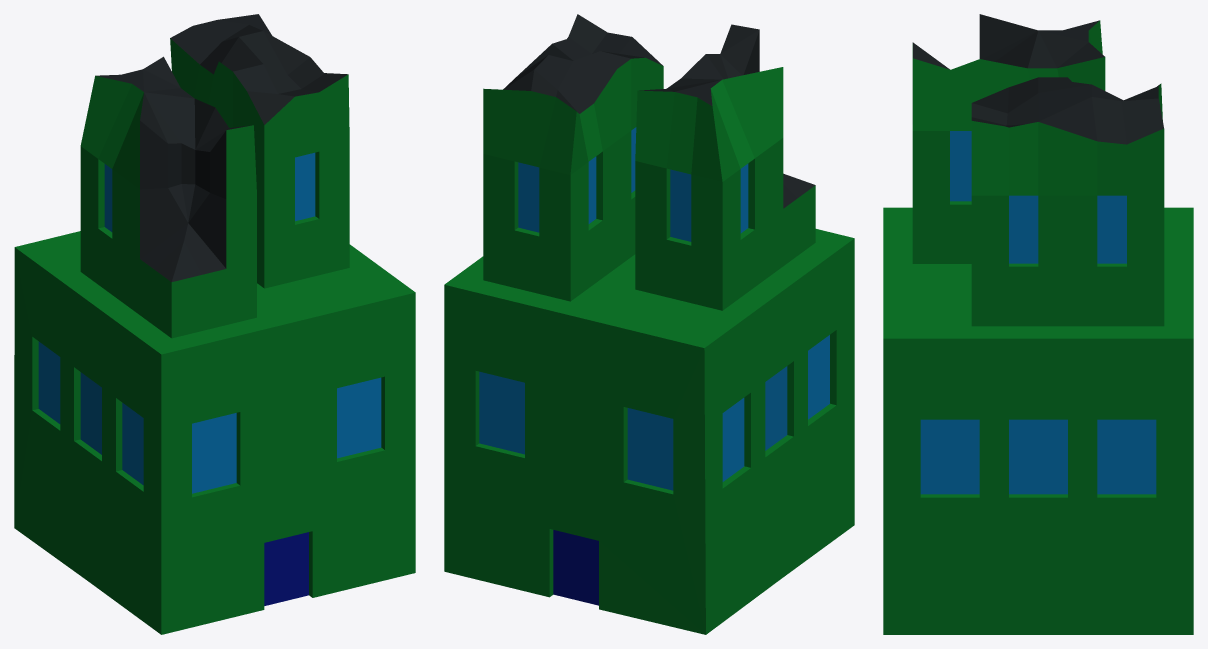
Rendered from House_3_Damaged.fbx.
3 views of the same model, side by side, from view 1: azimuth 30°, elevation 25°; view 2: azimuth 150°, elevation 25°; view 3: azimuth 270°, elevation 25° (orthographic). The views are drawn at different scales.
Parts seen in each view (by area): view 1: House_3_Damaged; view 2: House_3_Damaged; view 3: House_3_Damaged.
Boxes of the visible parts, bbox=[...] form: House_3_Damaged: bbox=[14, 14, 415, 634]; House_3_Damaged: bbox=[444, 14, 854, 634]; House_3_Damaged: bbox=[883, 14, 1193, 634].
Bounding box in the file's own units: 0.3171 × 0.5735 × 0.316.
